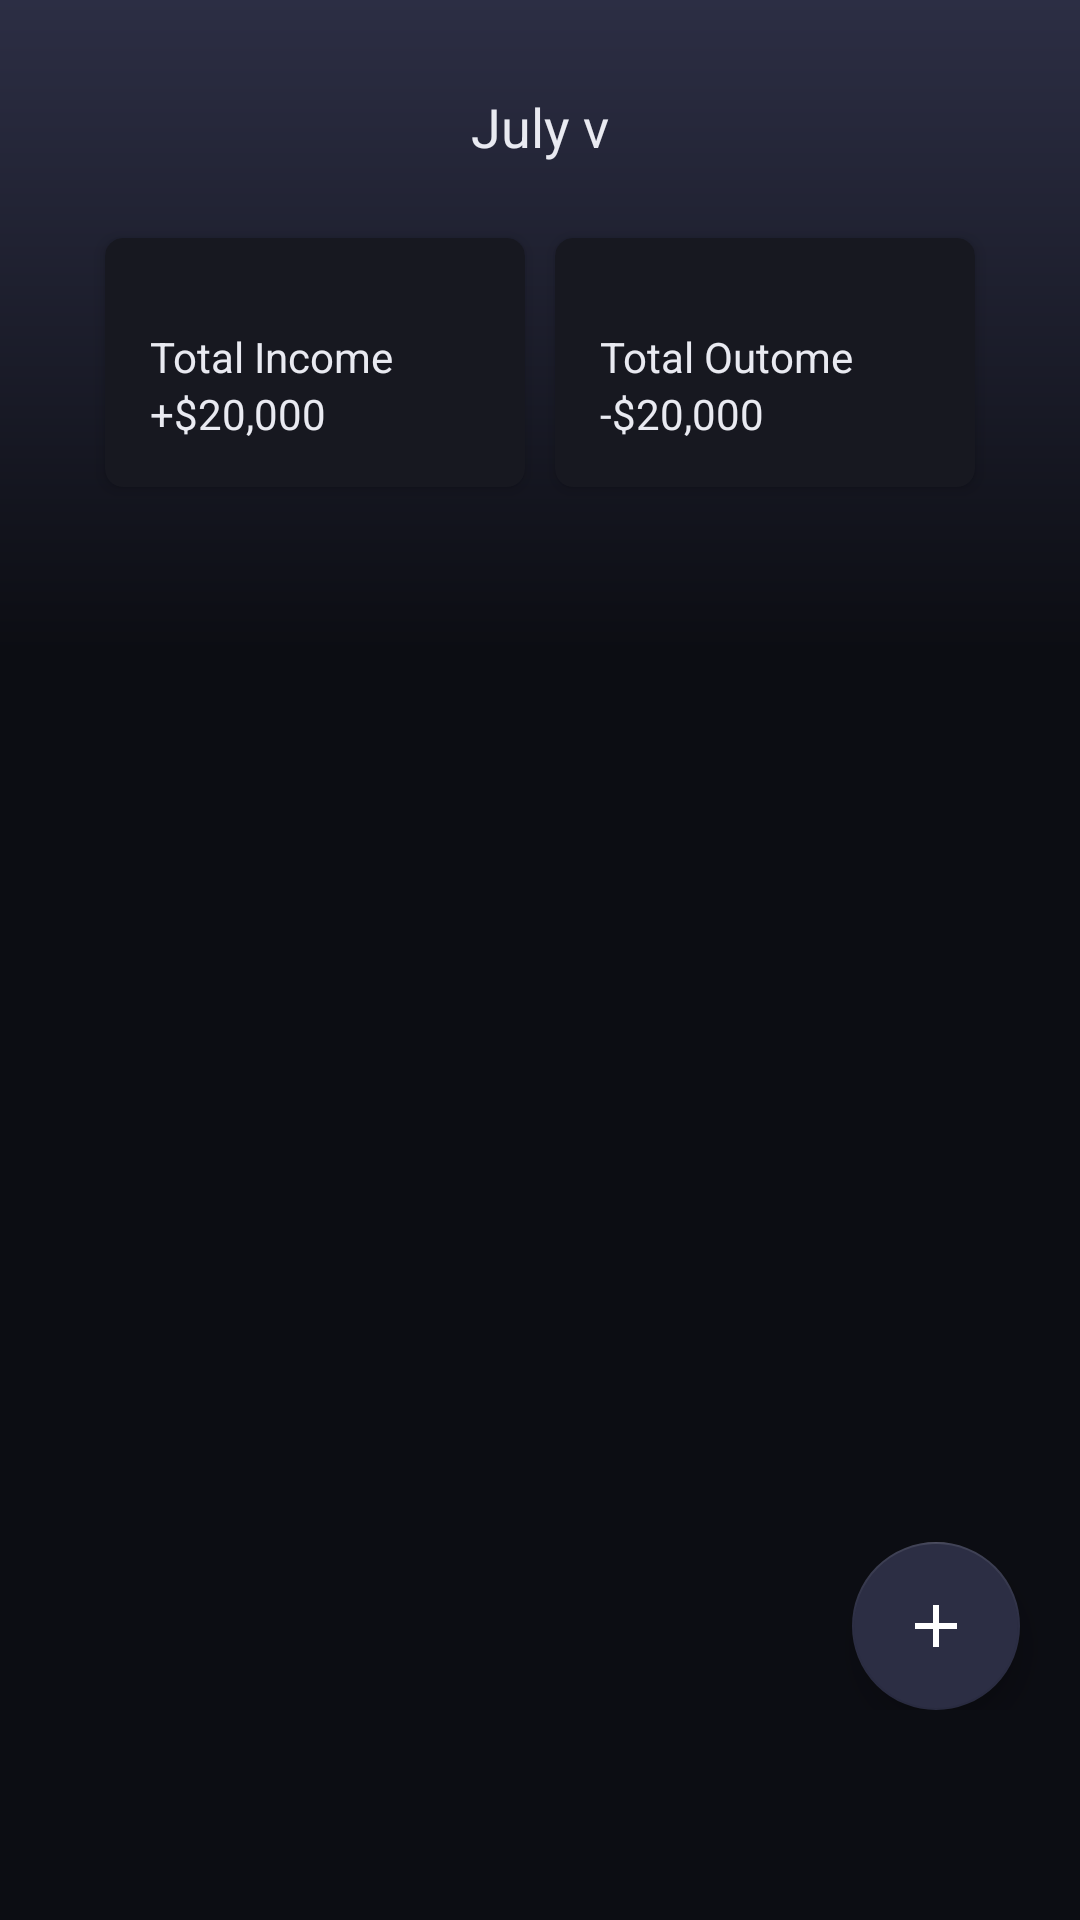

Icon click points for this 1080×1920 phone screenshot, format [x,y]:
add: [936,1626]
